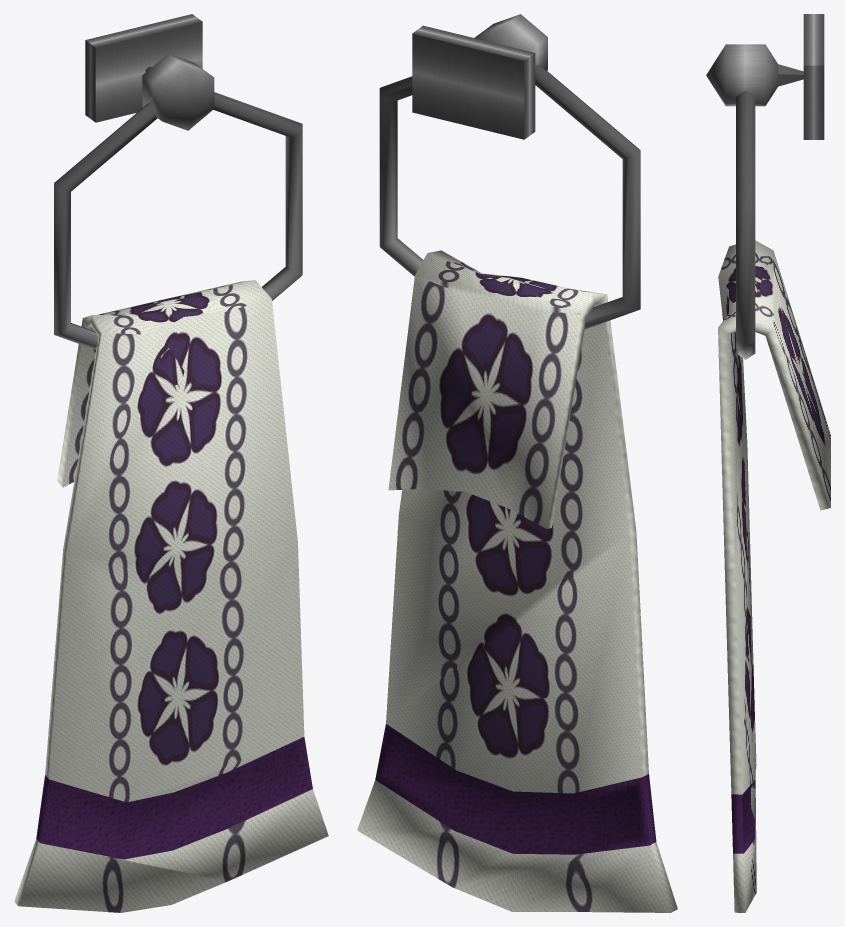
The model's file is Kitchen_Towel_A.FBX.
3 views of the same model, side by side, from view 1: azimuth 30°, elevation 25°; view 2: azimuth 150°, elevation 25°; view 3: azimuth 270°, elevation 25° (orthographic). The views are drawn at different scales.
Visible parts, largest first — view 1: Hand_Towel001; view 2: Hand_Towel001; view 3: Hand_Towel001.
Part boxes in pixels (x1=…): Hand_Towel001: x1=14, y1=14, x2=328, y2=912; Hand_Towel001: x1=357, y1=14, x2=677, y2=912; Hand_Towel001: x1=706, y1=14, x2=830, y2=912.
Bounding box in the file's own units: 34.08 × 90.19 × 12.18.
